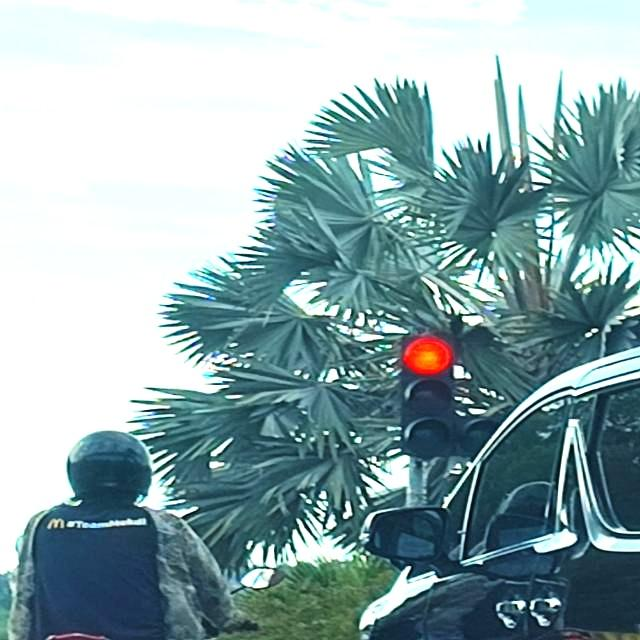Red: (400, 335, 454, 457)
